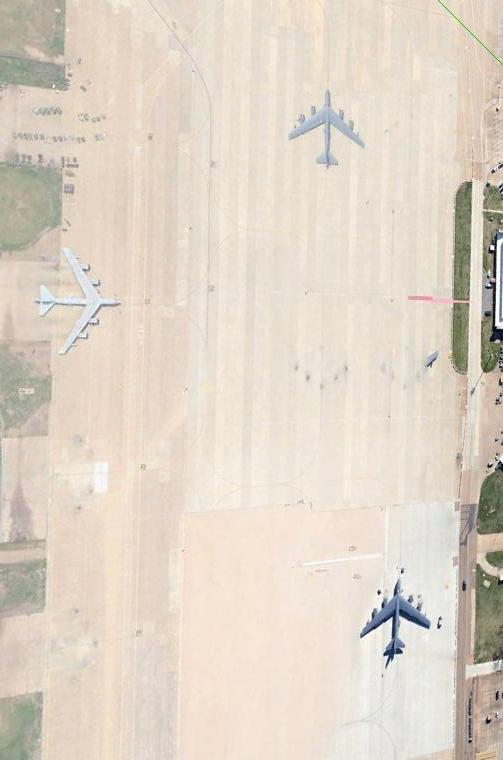B-52: (39, 246, 121, 354), (358, 578, 433, 664), (286, 90, 366, 169)
